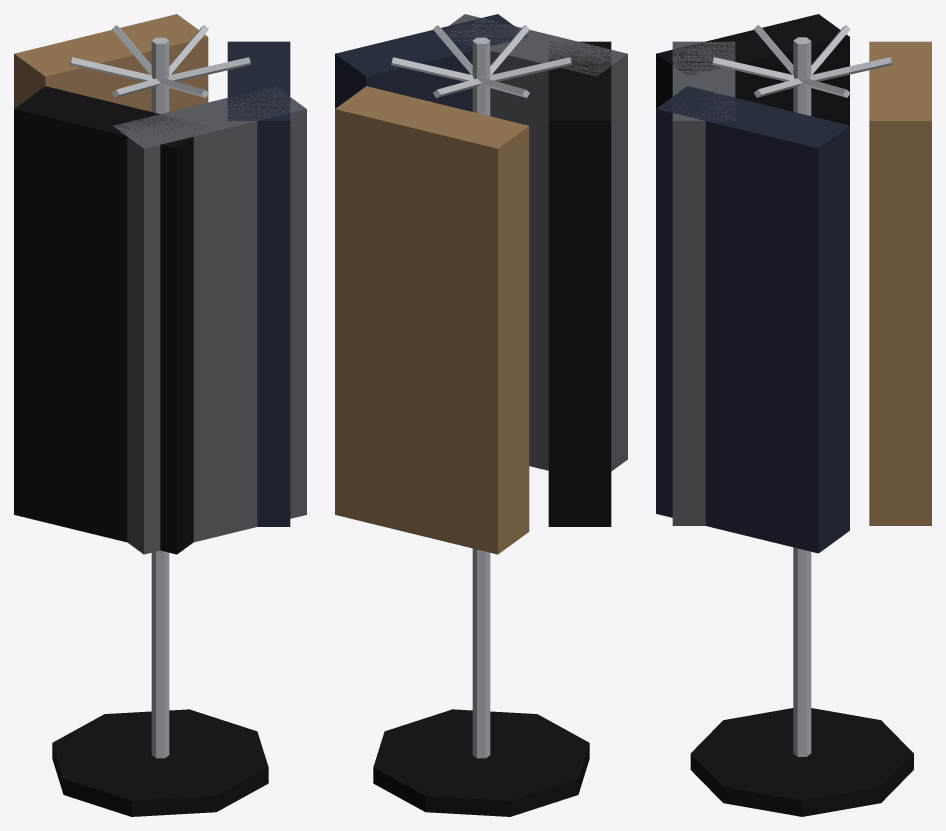
File: CoatRack.obj
3 renders of one model, left to right at view 1: azimuth 30°, elevation 25°; view 2: azimuth 150°, elevation 25°; view 3: azimuth 270°, elevation 25°, orthographic.
Visible parts, largest first — view 1: CoatRack; view 2: CoatRack; view 3: CoatRack.
Boxes of the visible parts, box(x1,y1,x2,y2) form: CoatRack: box(14, 14, 306, 816); CoatRack: box(335, 14, 627, 816); CoatRack: box(656, 14, 931, 816).
Size of the model in its own units: 0.7123 by 1.8 by 0.6169.
1 material, 1 textured.
